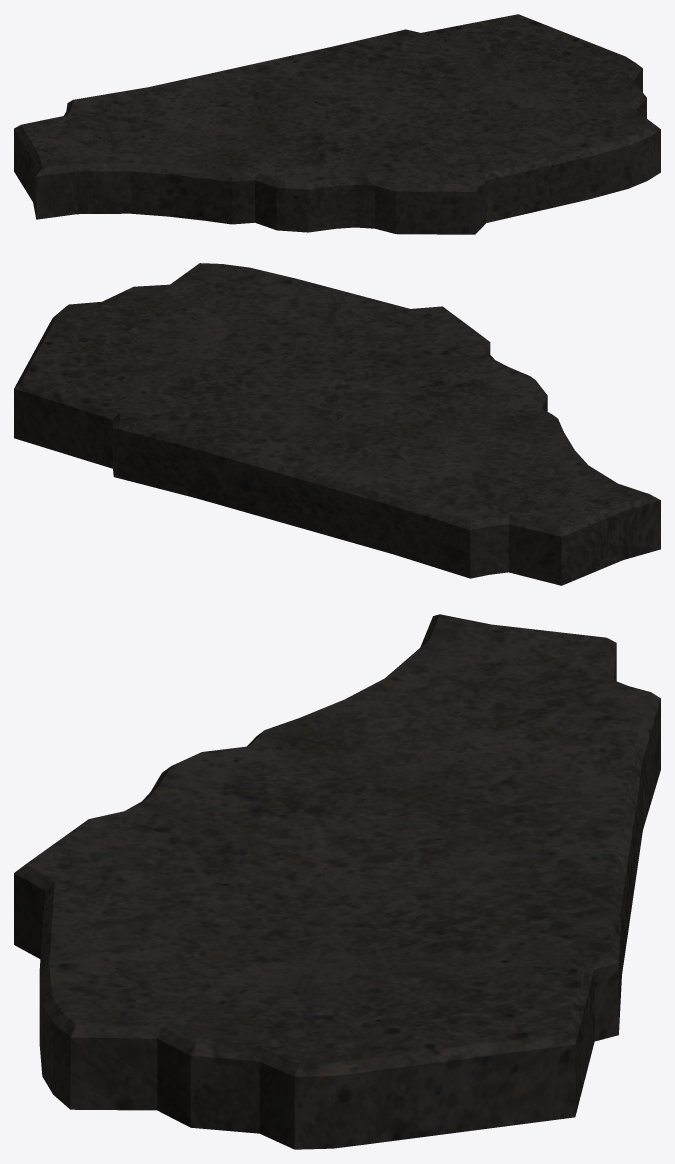
Rendered from FloorDmg06.fbx.
3 views of the same model, one above another, from view 1: azimuth 30°, elevation 25°; view 2: azimuth 150°, elevation 25°; view 3: azimuth 270°, elevation 25° (orthographic). The views are drawn at different scales.
Visible parts, largest first — view 1: SM_ENV_NATURE_Cave_Floor_Dmg_06.mo; view 2: SM_ENV_NATURE_Cave_Floor_Dmg_06.mo; view 3: SM_ENV_NATURE_Cave_Floor_Dmg_06.mo.
Boxes of the visible parts, box(x1,y1,x2,y2) form: SM_ENV_NATURE_Cave_Floor_Dmg_06.mo: box(14, 14, 660, 234); SM_ENV_NATURE_Cave_Floor_Dmg_06.mo: box(14, 263, 660, 585); SM_ENV_NATURE_Cave_Floor_Dmg_06.mo: box(14, 614, 660, 1149).
Size of the model in its own units: 364 by 31.15 by 216.
Materials: 1 (1 with a texture image).
